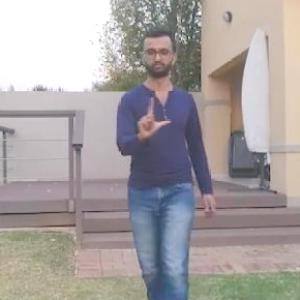land_hand: (125, 96, 177, 146)
